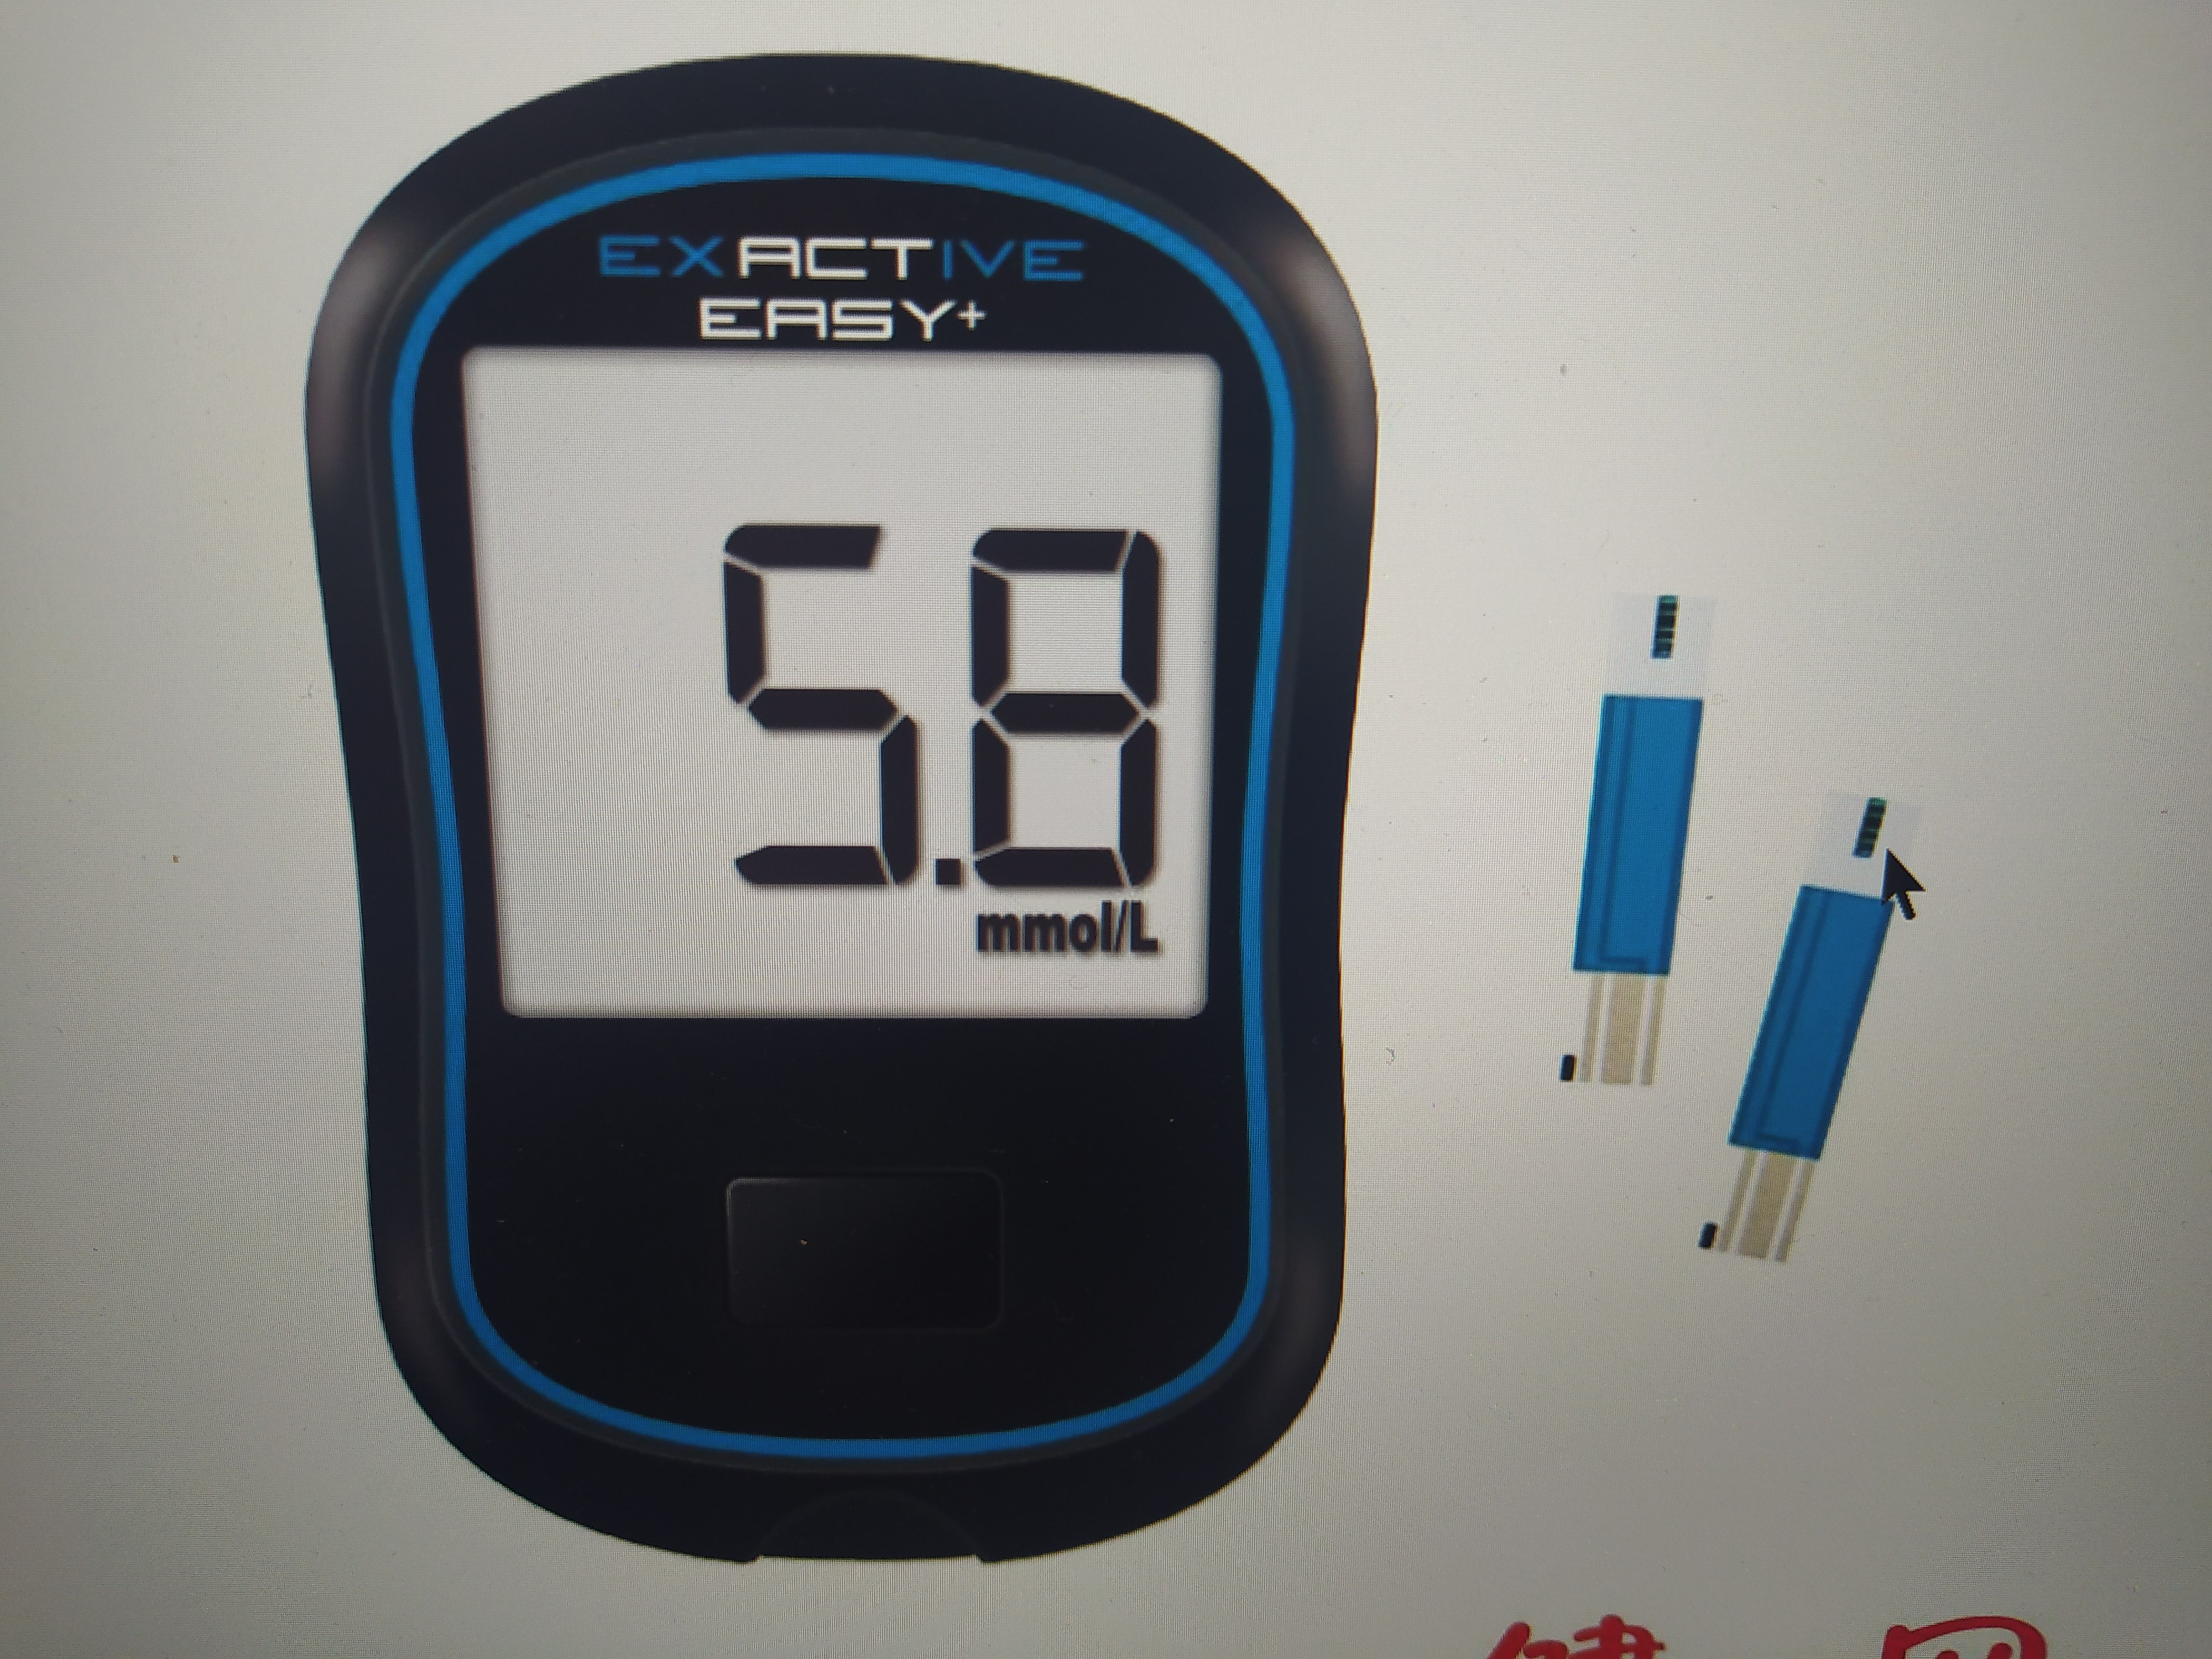.: (894, 523, 984, 899)
5: (671, 477, 930, 892)
8: (951, 519, 1181, 887)
